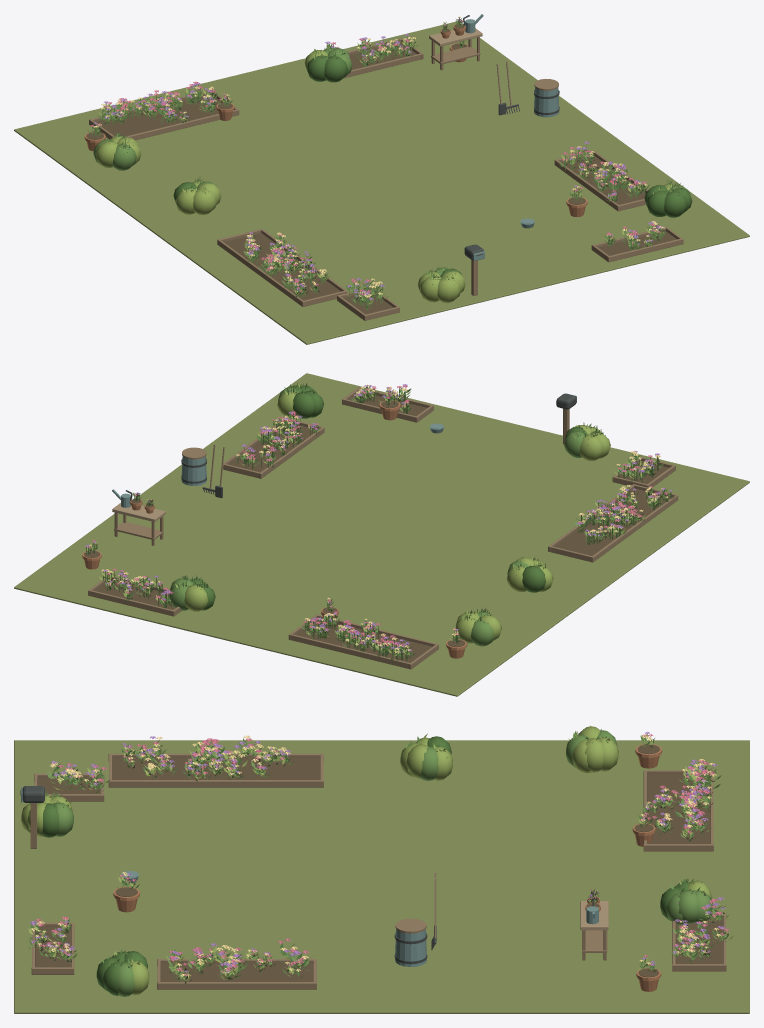
File: SM_MiaHouse_Garden.fbx
The picture shows the model from 3 angles, top to bottom: view 1: azimuth 30°, elevation 25°; view 2: azimuth 150°, elevation 25°; view 3: azimuth 270°, elevation 25°; orthographic projection. The views are drawn at different scales.
Visible parts, largest first — view 1: EXPORT_GardenGround, EXPORT_FlowerBedSoil.002, EXPORT_FlowerBedSoil, EXPORT_FlowerBedSoil.001, EXPORT_BedTimberEdge, EXPORT_BedTimberEnd.004, EXPORT_FlowerBedSoil.005, EXPORT_FlowerBedSoil.003, EXPORT_RainBarrel; view 2: EXPORT_GardenGround, EXPORT_FlowerBedSoil, EXPORT_FlowerBedSoil.002, EXPORT_FlowerBedSoil.001, EXPORT_BedTimberEnd.005, EXPORT_FlowerBedSoil.003, EXPORT_BedTimberEdge, EXPORT_RainBarrel, EXPORT_BedTimberEnd.007; view 3: EXPORT_GardenGround, EXPORT_FlowerBedSoil, EXPORT_FlowerBedSoil.002, EXPORT_FlowerBedSoil.001, EXPORT_BedTimberEdge.001, EXPORT_FlowerBedSoil.003, EXPORT_BedTimberEdge.003, EXPORT_FlowerBedSoil.005, EXPORT_RainBarrel, EXPORT_FlowerBedSoil.004, EXPORT_BedTimberEdge, EXPORT_PottingBenchTop (+8 smaller).
Boxes of the visible parts, <box> form: EXPORT_GardenGround: <box>14,21,749,344</box>; EXPORT_FlowerBedSoil.002: <box>95,95,220,136</box>; EXPORT_FlowerBedSoil: <box>224,233,340,300</box>; EXPORT_FlowerBedSoil.001: <box>561,155,645,204</box>; EXPORT_BedTimberEdge: <box>217,239,304,306</box>; EXPORT_BedTimberEnd.004: <box>125,109,237,140</box>; EXPORT_FlowerBedSoil.005: <box>598,231,676,255</box>; EXPORT_FlowerBedSoil.003: <box>349,42,416,70</box>; EXPORT_RainBarrel: <box>534,87,559,117</box>; EXPORT_GardenGround: <box>14,373,749,696</box>; EXPORT_FlowerBedSoil: <box>555,488,671,555</box>; EXPORT_FlowerBedSoil.002: <box>295,619,432,662</box>; EXPORT_FlowerBedSoil.001: <box>228,423,313,472</box>; EXPORT_BedTimberEnd.005: <box>290,634,409,668</box>; EXPORT_FlowerBedSoil.003: <box>94,579,175,609</box>; EXPORT_BedTimberEdge: <box>591,494,678,562</box>; EXPORT_RainBarrel: <box>181,456,206,485</box>; EXPORT_BedTimberEnd.007: <box>90,590,172,615</box>; EXPORT_GardenGround: <box>14,740,749,1013</box>; EXPORT_FlowerBedSoil: <box>112,758,320,779</box>; EXPORT_FlowerBedSoil.002: <box>647,775,710,843</box>; EXPORT_FlowerBedSoil.001: <box>160,964,313,981</box>; EXPORT_BedTimberEdge.001: <box>108,780,323,787</box>; EXPORT_FlowerBedSoil.003: <box>675,917,722,963</box>; EXPORT_BedTimberEdge.003: <box>157,982,316,989</box>; EXPORT_FlowerBedSoil.005: <box>35,927,70,967</box>; EXPORT_RainBarrel: <box>395,929,426,966</box>; EXPORT_FlowerBedSoil.004: <box>37,778,100,793</box>; EXPORT_BedTimberEdge: <box>108,753,323,760</box>; EXPORT_PottingBenchTop: <box>580,901,608,930</box>.
Size of the model in its own units: 1400 by 1600 by 215.
